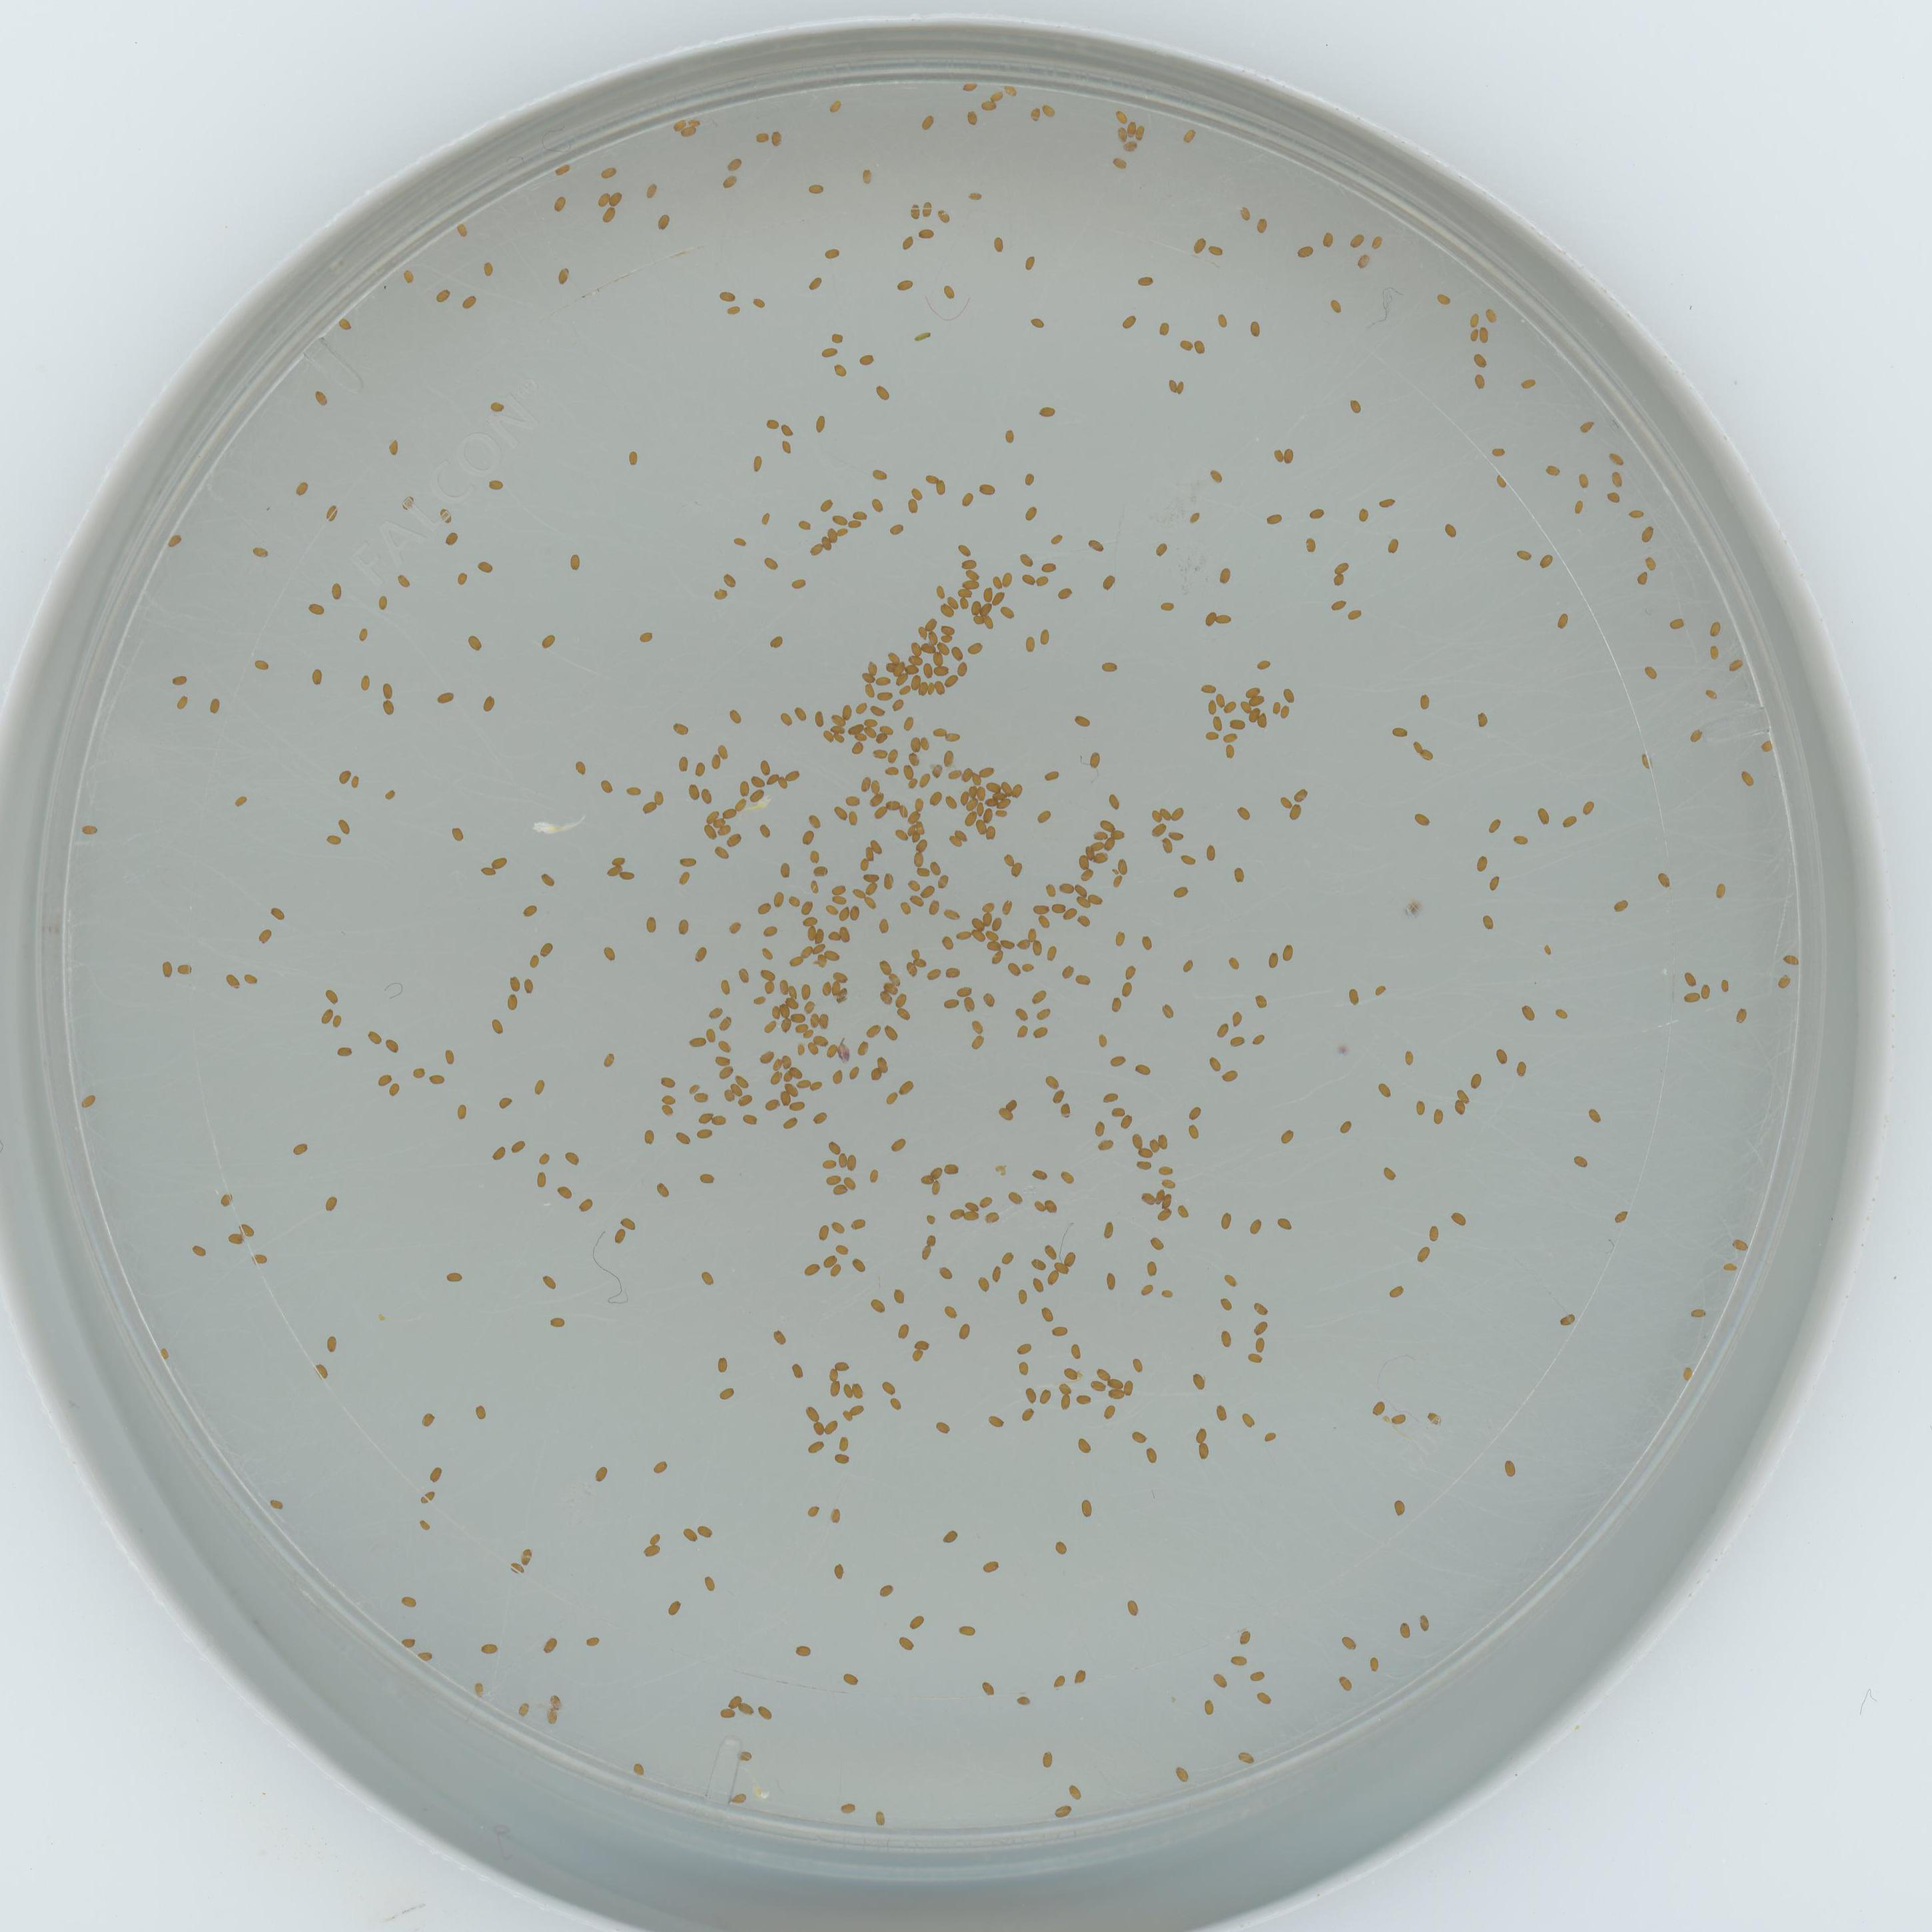seed: (952, 1624, 978, 1640), (856, 166, 876, 188), (824, 96, 844, 117), (556, 267, 573, 288), (1085, 748, 1102, 770), (899, 715, 918, 732), (874, 382, 893, 400), (642, 180, 662, 198), (541, 1637, 561, 1654), (885, 1021, 902, 1040), (755, 1702, 775, 1720), (529, 1077, 548, 1095), (1472, 855, 1490, 874), (1449, 1207, 1468, 1224), (1424, 1226, 1444, 1244), (1246, 1217, 1265, 1235), (1414, 1614, 1433, 1631), (1076, 1497, 1093, 1516), (1721, 1258, 1739, 1277), (954, 541, 975, 557), (1136, 272, 1157, 288), (1191, 235, 1207, 257), (334, 817, 352, 835), (269, 904, 287, 922), (255, 925, 272, 943), (566, 552, 584, 570), (490, 853, 508, 870), (685, 784, 702, 801), (479, 258, 497, 276), (465, 633, 483, 651), (538, 633, 556, 651), (379, 699, 396, 717), (906, 202, 924, 219), (777, 862, 794, 879), (658, 1070, 676, 1088), (713, 1355, 731, 1373), (577, 1194, 594, 1212), (384, 1037, 402, 1054), (699, 1269, 717, 1286), (771, 1327, 789, 1345), (741, 1109, 759, 1127), (541, 1272, 559, 1290), (718, 1384, 736, 1401), (805, 1403, 823, 1421), (782, 1113, 800, 1131), (809, 1437, 826, 1454), (876, 1056, 893, 1074), (1215, 566, 1233, 584), (998, 899, 1016, 916), (1279, 943, 1297, 961), (966, 639, 984, 656), (1486, 876, 1504, 893), (1246, 318, 1263, 336), (1638, 525, 1656, 543), (978, 481, 996, 499), (1035, 628, 1053, 646), (1470, 372, 1488, 389), (1198, 679, 1215, 697), (1016, 552, 1033, 570), (1737, 770, 1755, 787), (1007, 1187, 1024, 1205), (1467, 1070, 1484, 1088), (1100, 1086, 1118, 1104), (1230, 1652, 1247, 1670), (1099, 1221, 1116, 1238), (1215, 1212, 1233, 1230), (1212, 1403, 1230, 1421), (1100, 1272, 1118, 1290), (1212, 1672, 1230, 1690), (1021, 1387, 1039, 1405), (1074, 1435, 1092, 1453), (1037, 1304, 1054, 1322), (1238, 1410, 1256, 1428), (1141, 1445, 1159, 1463), (1502, 1460, 1520, 1477), (1012, 1286, 1030, 1304), (1194, 1442, 1212, 1460), (1414, 1246, 1431, 1263), (1122, 1599, 1139, 1617), (1336, 1674, 1353, 1691), (1730, 1233, 1748, 1251), (1426, 1410, 1444, 1428), (1755, 738, 1773, 755), (870, 1810, 888, 1828), (736, 1748, 754, 1766), (543, 1707, 561, 1725), (832, 361, 851, 377), (602, 207, 617, 226), (718, 287, 738, 303), (324, 504, 340, 524), (798, 899, 817, 915), (223, 971, 239, 991), (441, 1047, 456, 1067), (816, 1223, 832, 1242), (556, 1182, 575, 1198), (763, 1095, 782, 1111), (878, 957, 893, 977), (978, 586, 994, 605), (1274, 1214, 1293, 1230), (1060, 1364, 1079, 1380), (1033, 1005, 1053, 1021), (1155, 1131, 1171, 1150), (1700, 685, 1716, 704), (1681, 1366, 1697, 1385), (506, 1560, 527, 1575), (872, 467, 890, 483), (897, 276, 915, 292), (870, 702, 888, 718), (356, 674, 373, 690), (679, 853, 697, 869), (763, 416, 780, 432), (306, 600, 324, 616), (386, 439, 402, 456), (324, 832, 341, 847), (727, 154, 745, 170), (798, 517, 816, 533), (876, 918, 893, 934), (395, 573, 412, 589), (927, 791, 945, 807), (832, 805, 849, 821), (327, 582, 343, 600), (771, 892, 787, 909), (918, 223, 934, 241), (800, 830, 817, 846), (757, 823, 775, 839), (807, 274, 824, 290), (950, 646, 966, 663), (713, 586, 731, 602), (637, 628, 655, 644), (812, 416, 830, 432), (676, 755, 694, 771), (759, 757, 775, 775), (550, 195, 568, 211), (292, 479, 310, 495), (909, 851, 925, 869), (433, 287, 451, 303), (793, 706, 810, 722), (941, 906, 959, 922), (540, 939, 556, 957), (812, 863, 830, 879), (701, 789, 718, 805), (308, 669, 326, 685), (727, 709, 745, 725), (754, 129, 771, 145), (924, 901, 941, 916), (824, 242, 840, 260), (934, 207, 952, 223), (694, 943, 709, 961), (377, 683, 395, 699), (812, 711, 828, 729), (656, 212, 672, 230), (763, 924, 780, 939), (807, 849, 824, 865), (839, 927, 855, 945), (837, 906, 853, 924), (955, 660, 971, 678), (786, 954, 803, 970), (938, 602, 955, 617), (805, 1260, 823, 1276), (881, 1378, 899, 1394), (890, 1134, 908, 1150), (908, 1614, 925, 1629), (593, 1465, 609, 1483), (428, 1069, 446, 1085), (844, 1173, 862, 1189), (488, 1017, 506, 1033), (835, 1435, 853, 1451), (879, 1582, 897, 1598), (934, 1419, 952, 1435), (426, 1465, 442, 1483), (865, 1021, 883, 1037), (708, 1003, 724, 1021), (502, 993, 520, 1008), (833, 1355, 851, 1371), (495, 1093, 513, 1109), (366, 1028, 382, 1046), (828, 1069, 846, 1085), (936, 1263, 954, 1279), (794, 1642, 812, 1658), (290, 1139, 308, 1155), (895, 1322, 913, 1338), (697, 1522, 715, 1537), (640, 1127, 658, 1143), (617, 1214, 635, 1230), (870, 1295, 888, 1311), (320, 1194, 338, 1210), (892, 1286, 908, 1304), (851, 1214, 869, 1230), (446, 1267, 462, 1284), (851, 1256, 869, 1272), (886, 1394, 904, 1410), (655, 1182, 672, 1198), (548, 1313, 566, 1329), (226, 1230, 242, 1247), (812, 1108, 830, 1123), (563, 1148, 580, 1164), (849, 1401, 867, 1417), (791, 1361, 807, 1378), (899, 1635, 916, 1651), (189, 1242, 207, 1258), (913, 1334, 931, 1350), (759, 1049, 777, 1065), (239, 1219, 255, 1237), (717, 1063, 734, 1079), (713, 1051, 731, 1067), (826, 1380, 842, 1398), (955, 1323, 971, 1341), (812, 1031, 830, 1047), (1265, 510, 1283, 525), (1534, 809, 1552, 824), (1384, 538, 1401, 554), (1253, 216, 1270, 232), (1605, 488, 1622, 504), (1332, 557, 1350, 573), (1008, 863, 1026, 879), (1300, 536, 1318, 552), (1168, 805, 1185, 821), (1486, 817, 1504, 833), (1201, 844, 1217, 862), (1021, 506, 1039, 522), (1171, 885, 1189, 901), (1376, 494, 1394, 510), (1470, 350, 1488, 366), (1608, 471, 1624, 488), (1307, 504, 1325, 520), (1575, 471, 1592, 487), (1329, 596, 1346, 612), (1297, 242, 1315, 258), (1391, 724, 1408, 740), (1479, 913, 1497, 929), (1442, 522, 1460, 538), (1040, 557, 1058, 573), (1086, 536, 1104, 552), (1136, 934, 1154, 950), (998, 605, 1016, 621), (1221, 743, 1238, 759), (1580, 800, 1598, 816), (1026, 313, 1044, 329), (1553, 612, 1571, 628), (1230, 867, 1247, 883), (1633, 570, 1651, 586), (1353, 253, 1371, 269), (1118, 313, 1136, 329), (1017, 570, 1035, 586), (1640, 554, 1658, 570), (1327, 297, 1345, 313), (1348, 232, 1366, 248), (1168, 828, 1185, 844), (1028, 939, 1044, 957), (1237, 205, 1254, 221), (1656, 872, 1674, 888), (1435, 290, 1453, 306), (1093, 1366, 1111, 1382), (1028, 1166, 1046, 1182), (1134, 1058, 1150, 1076), (1251, 1320, 1269, 1336), (1493, 1047, 1511, 1063), (1070, 1668, 1088, 1684), (982, 1559, 1000, 1575), (987, 1412, 1005, 1428), (1042, 1074, 1060, 1090), (1030, 1254, 1047, 1270), (1732, 1007, 1750, 1023), (1380, 1164, 1398, 1180), (1090, 1120, 1108, 1136), (1051, 1322, 1069, 1338), (1040, 1242, 1058, 1258), (1254, 1690, 1272, 1706), (1185, 1104, 1203, 1120), (1017, 1407, 1035, 1422), (1106, 996, 1123, 1012), (1237, 1748, 1254, 1764), (1030, 987, 1047, 1003), (1129, 1428, 1146, 1444), (1387, 1283, 1405, 1299), (1396, 1622, 1414, 1638), (1116, 1113, 1134, 1129), (1345, 987, 1361, 1005), (1235, 1629, 1253, 1645), (1016, 1339, 1033, 1355), (978, 1679, 996, 1695), (1221, 1065, 1238, 1081), (1049, 1088, 1067, 1104), (1339, 1635, 1357, 1651), (1065, 1783, 1083, 1799), (1391, 1499, 1408, 1514), (1191, 1426, 1208, 1442), (1108, 1051, 1125, 1067), (984, 1208, 1001, 1224), (977, 1192, 994, 1208), (1228, 1031, 1246, 1047), (1171, 1766, 1189, 1782), (1146, 1233, 1162, 1251), (987, 1263, 1003, 1281), (1585, 1106, 1603, 1122), (1217, 1332, 1233, 1350), (1054, 1394, 1072, 1410), (1251, 1299, 1269, 1315), (1037, 1752, 1053, 1769), (1028, 1198, 1046, 1214), (1143, 1260, 1161, 1276), (1053, 1801, 1070, 1817), (1189, 1373, 1207, 1389), (1159, 1003, 1177, 1019), (1065, 1343, 1083, 1359), (1058, 1168, 1074, 1185), (1184, 1122, 1201, 1138), (1375, 1083, 1392, 1099), (1054, 1380, 1072, 1396), (1430, 1109, 1447, 1125), (1053, 1260, 1070, 1276), (1707, 621, 1723, 639), (1180, 957, 1196, 975), (1730, 656, 1746, 674), (1024, 104, 1042, 120), (1003, 83, 1021, 99), (961, 80, 978, 96), (1111, 127, 1129, 143), (1122, 140, 1139, 156), (840, 1801, 858, 1817), (729, 1790, 747, 1806), (547, 1693, 564, 1709), (313, 1364, 329, 1382), (908, 734, 922, 754), (823, 1171, 842, 1185), (175, 961, 195, 975), (1058, 1100, 1072, 1120), (522, 902, 538, 918), (609, 191, 625, 207), (724, 571, 740, 587), (819, 497, 835, 513), (770, 633, 786, 649), (939, 934, 955, 950), (881, 874, 897, 890), (600, 777, 616, 793), (893, 828, 909, 844), (945, 674, 961, 690), (375, 594, 391, 610), (778, 711, 794, 727), (764, 556, 780, 571), (170, 671, 186, 686), (748, 456, 764, 472), (823, 343, 839, 359), (715, 846, 731, 862), (901, 234, 916, 249), (481, 697, 497, 713), (672, 720, 688, 736), (890, 520, 906, 536), (757, 901, 773, 916), (708, 754, 724, 770), (207, 699, 223, 715), (869, 793, 885, 809), (809, 179, 824, 195), (354, 626, 370, 642), (727, 303, 743, 318), (807, 879, 823, 895), (253, 656, 269, 672), (437, 690, 453, 706), (334, 770, 350, 786), (731, 534, 747, 550), (251, 543, 267, 559), (892, 697, 908, 713), (832, 510, 847, 525), (934, 479, 950, 495), (870, 497, 886, 513), (945, 796, 961, 812), (644, 916, 660, 932), (653, 789, 669, 805), (676, 920, 692, 936), (770, 129, 786, 145), (717, 743, 732, 759), (909, 485, 925, 501), (488, 476, 504, 492), (807, 812, 823, 828), (830, 329, 846, 345), (904, 499, 920, 515), (602, 945, 617, 961), (780, 439, 796, 455), (786, 768, 801, 784), (761, 943, 777, 959), (807, 543, 823, 559), (173, 695, 189, 711), (856, 777, 872, 793), (832, 879, 847, 895), (939, 750, 955, 766), (870, 839, 886, 855), (694, 761, 709, 777), (736, 780, 752, 796), (847, 812, 863, 828), (338, 317, 354, 333), (847, 906, 863, 922), (939, 621, 955, 637), (869, 777, 885, 793), (920, 113, 936, 129), (856, 856, 872, 872), (908, 750, 924, 766), (81, 821, 97, 837), (554, 163, 570, 179), (899, 1079, 915, 1095), (324, 989, 340, 1005), (481, 1640, 497, 1656), (807, 1502, 823, 1518), (377, 1072, 393, 1088), (653, 1458, 669, 1474), (667, 1599, 683, 1615), (400, 1592, 416, 1608), (251, 1249, 267, 1265), (216, 1191, 232, 1207), (835, 1451, 851, 1467), (510, 1136, 525, 1152), (895, 1005, 911, 1021), (941, 1529, 957, 1545), (533, 1171, 548, 1187), (717, 1016, 732, 1031), (846, 1154, 862, 1169), (832, 1562, 847, 1578), (856, 1039, 872, 1054), (867, 1166, 883, 1182), (329, 1012, 345, 1028), (472, 1403, 488, 1419), (674, 1129, 690, 1145), (610, 1228, 626, 1244), (515, 1700, 531, 1716), (400, 1635, 416, 1651), (318, 1007, 334, 1023), (717, 978, 732, 994), (660, 1102, 676, 1118), (851, 1382, 867, 1398), (828, 1506, 844, 1522), (832, 1217, 847, 1233), (766, 1070, 782, 1086), (833, 968, 849, 984), (704, 1028, 720, 1044), (419, 1412, 435, 1428), (738, 966, 754, 982), (699, 1169, 715, 1185), (727, 1691, 743, 1707), (602, 1051, 617, 1067), (883, 1090, 899, 1106), (948, 1203, 964, 1219), (844, 1670, 860, 1686), (702, 1575, 718, 1591), (763, 1019, 778, 1035), (386, 1081, 402, 1097), (453, 1102, 469, 1118), (924, 1230, 939, 1246), (648, 1530, 663, 1546), (694, 1088, 709, 1104), (269, 1495, 285, 1511), (916, 1244, 932, 1260), (823, 1042, 839, 1058), (1044, 766, 1060, 782), (1207, 467, 1223, 483), (1346, 605, 1362, 621), (1628, 504, 1644, 520), (1035, 809, 1051, 824), (1513, 832, 1529, 847), (1281, 686, 1297, 702), (1111, 931, 1127, 947), (1537, 554, 1553, 570), (1281, 448, 1297, 464), (1115, 858, 1131, 874), (1545, 462, 1560, 478), (1100, 575, 1116, 591), (991, 235, 1007, 251), (1263, 950, 1279, 966), (1614, 897, 1629, 913), (1207, 242, 1223, 258), (1368, 234, 1384, 249), (1493, 472, 1509, 488), (1074, 711, 1090, 727), (1033, 899, 1049, 915), (1292, 787, 1307, 803), (1001, 426, 1017, 442), (1713, 883, 1729, 899), (1047, 531, 1063, 547), (1644, 663, 1660, 679), (1474, 713, 1490, 729), (1100, 658, 1116, 674), (1104, 794, 1120, 810), (1203, 729, 1219, 745), (1320, 232, 1336, 248), (1562, 812, 1578, 828), (1235, 805, 1251, 821), (1414, 812, 1430, 828), (1191, 338, 1207, 354), (1690, 727, 1706, 743), (1111, 154, 1127, 170), (1185, 510, 1201, 525), (1037, 915, 1053, 931), (1215, 610, 1231, 626), (1208, 715, 1224, 731), (1076, 913, 1092, 929), (1079, 869, 1095, 885), (1044, 945, 1060, 961), (1346, 398, 1362, 414), (1276, 794, 1292, 810), (998, 934, 1014, 950), (987, 573, 1003, 589), (1578, 418, 1594, 433), (1074, 881, 1090, 897), (1465, 311, 1481, 327), (1606, 451, 1622, 467), (1514, 1062, 1530, 1077), (1249, 1668, 1265, 1684), (1093, 1031, 1109, 1047), (1249, 1030, 1265, 1046), (1338, 1118, 1353, 1134), (970, 1033, 985, 1049), (1553, 1005, 1569, 1021), (1157, 1161, 1173, 1177), (1207, 1056, 1223, 1072), (1279, 1127, 1295, 1143), (1000, 1249, 1016, 1265), (1037, 1387, 1053, 1403), (1522, 1003, 1537, 1019), (1100, 1403, 1116, 1419), (1251, 993, 1267, 1008), (1051, 1674, 1067, 1690), (1573, 1152, 1589, 1168), (1201, 1700, 1217, 1716), (1076, 1391, 1092, 1407), (1051, 1539, 1067, 1555), (1223, 1272, 1238, 1288), (1371, 1399, 1387, 1415), (1129, 1357, 1145, 1373), (975, 1276, 991, 1292), (1074, 971, 1090, 987), (1391, 1410, 1407, 1426), (1062, 1251, 1077, 1267), (1683, 970, 1698, 985), (1217, 1295, 1233, 1311), (1031, 1021, 1047, 1037), (1028, 1276, 1044, 1292), (1246, 1350, 1261, 1366), (1014, 1691, 1030, 1707), (1044, 1198, 1060, 1214), (1118, 980, 1134, 996), (1139, 1189, 1155, 1205), (1614, 1207, 1629, 1223), (1638, 754, 1654, 770), (987, 87, 1003, 103), (812, 941, 828, 957), (472, 1681, 488, 1697), (156, 1346, 172, 1362), (922, 469, 939, 483), (932, 582, 947, 600), (442, 531, 460, 545), (540, 874, 557, 888), (791, 575, 809, 589), (780, 423, 798, 437), (479, 865, 497, 879), (460, 294, 478, 308), (844, 793, 862, 807), (725, 833, 743, 847), (748, 789, 766, 803), (527, 954, 541, 971), (851, 506, 869, 520), (863, 899, 881, 913), (911, 796, 929, 810), (879, 722, 897, 736), (945, 768, 962, 782), (717, 823, 734, 837), (863, 715, 881, 729), (334, 1042, 352, 1056), (688, 1033, 706, 1047), (943, 1161, 961, 1175), (750, 993, 768, 1007), (717, 1039, 734, 1053), (324, 1334, 338, 1352), (867, 1065, 885, 1079), (159, 959, 173, 977), (738, 1093, 755, 1108), (681, 1529, 699, 1543), (778, 1088, 793, 1106), (1054, 586, 1072, 600), (1242, 681, 1260, 695), (989, 952, 1007, 966), (1060, 908, 1077, 922), (1178, 853, 1196, 867), (1782, 950, 1799, 964), (1023, 253, 1037, 271), (1145, 809, 1162, 823), (1178, 129, 1196, 143), (985, 939, 1003, 954), (1012, 1007, 1030, 1021), (980, 993, 998, 1007), (1120, 966, 1138, 980), (1014, 1361, 1031, 1375), (1215, 1021, 1230, 1039), (1095, 1136, 1113, 1150), (1138, 1281, 1155, 1295), (1108, 1102, 1125, 1116), (996, 1106, 1014, 1120), (962, 996, 977, 1014), (950, 828, 968, 842), (632, 1760, 646, 1778), (798, 945, 816, 959), (957, 787, 970, 807), (520, 1546, 533, 1566), (1106, 1376, 1125, 1389), (876, 674, 892, 688), (931, 724, 947, 738), (860, 352, 876, 366), (851, 741, 867, 755), (678, 872, 694, 886), (702, 826, 718, 840), (941, 285, 957, 299), (382, 787, 398, 801), (727, 920, 743, 934), (849, 886, 865, 901), (885, 766, 901, 780), (922, 885, 938, 899), (626, 784, 642, 798), (750, 295, 766, 310), (724, 173, 740, 188), (602, 165, 617, 179), (449, 828, 465, 842), (945, 731, 961, 745), (453, 571, 469, 586), (787, 893, 803, 908), (610, 853, 626, 867), (759, 511, 775, 525), (626, 449, 640, 465), (476, 559, 492, 573), (704, 809, 720, 823), (801, 915, 817, 929), (621, 869, 637, 883), (913, 839, 929, 853), (920, 734, 934, 750), (863, 660, 879, 674), (878, 688, 893, 702), (313, 389, 329, 403), (899, 902, 915, 916), (400, 269, 416, 283), (596, 191, 610, 207), (573, 761, 589, 775), (902, 764, 916, 780), (863, 683, 878, 699), (874, 747, 888, 763), (888, 747, 902, 763), (734, 798, 750, 812), (909, 893, 925, 908), (750, 775, 766, 789), (906, 878, 922, 892), (909, 640, 924, 656), (863, 869, 879, 883), (232, 794, 248, 809), (826, 948, 842, 962), (931, 764, 945, 780), (858, 671, 874, 685), (832, 732, 847, 747), (803, 925, 817, 941), (681, 124, 697, 138), (947, 835, 962, 849), (826, 1138, 842, 1152), (410, 1065, 426, 1079), (662, 1092, 678, 1106), (644, 1543, 660, 1557), (786, 994, 801, 1008), (945, 966, 961, 980), (941, 1302, 957, 1316), (697, 1109, 713, 1123), (586, 1635, 602, 1649), (522, 977, 536, 993), (791, 1097, 807, 1111), (830, 1261, 844, 1277), (925, 966, 941, 980), (821, 1155, 837, 1169), (490, 1145, 506, 1159), (893, 993, 909, 1007), (847, 1065, 863, 1079), (713, 1111, 727, 1127), (418, 1649, 433, 1663), (685, 1079, 701, 1093), (506, 975, 520, 991), (697, 1125, 713, 1139), (536, 1150, 552, 1164), (720, 1707, 736, 1721), (740, 1702, 755, 1716), (931, 1162, 945, 1178), (805, 1042, 821, 1056), (766, 1005, 782, 1019), (800, 985, 816, 1000), (763, 978, 778, 993), (787, 1065, 803, 1079), (918, 1169, 934, 1184), (83, 1090, 97, 1106), (418, 1518, 433, 1532), (840, 1382, 855, 1398), (782, 1054, 798, 1069), (989, 916, 1003, 932), (1516, 547, 1532, 561), (1150, 823, 1166, 837), (1214, 313, 1230, 327), (1267, 448, 1283, 462), (1154, 541, 1168, 557), (1221, 731, 1237, 745), (1058, 879, 1072, 895), (1000, 853, 1016, 867), (1021, 471, 1037, 485), (1254, 658, 1270, 672), (1037, 403, 1053, 418), (1415, 695, 1431, 709), (1155, 320, 1171, 334), (978, 763, 994, 777), (1355, 508, 1371, 522), (1201, 701, 1217, 715), (1157, 840, 1173, 855), (1330, 573, 1346, 587), (1490, 444, 1506, 458), (1288, 807, 1304, 821), (966, 108, 980, 124), (1571, 499, 1587, 513), (1102, 837, 1116, 853), (1099, 817, 1115, 832), (1092, 853, 1108, 867), (984, 826, 998, 842), (1157, 598, 1173, 612), (1074, 855, 1090, 869), (1177, 336, 1192, 350), (966, 189, 982, 203), (1024, 927, 1039, 943), (1417, 748, 1433, 763), (1010, 782, 1024, 798), (1108, 874, 1122, 890), (970, 915, 984, 931), (1668, 616, 1684, 630), (980, 99, 996, 113), (1228, 717, 1244, 731), (1040, 103, 1056, 117), (1249, 694, 1265, 708), (970, 614, 985, 628), (993, 807, 1008, 821), (1159, 805, 1173, 821), (1465, 327, 1479, 343), (961, 580, 982, 591), (1706, 646, 1721, 660), (1520, 375, 1536, 389), (1228, 1012, 1244, 1026), (1559, 1311, 1575, 1325), (1122, 1378, 1136, 1394), (1401, 1051, 1417, 1065), (1373, 982, 1387, 998), (1155, 1208, 1171, 1223), (1366, 1656, 1382, 1670), (1716, 978, 1732, 993), (1044, 1270, 1060, 1284), (1261, 1430, 1277, 1444), (1253, 1338, 1269, 1352), (970, 1017, 985, 1031), (1088, 1378, 1104, 1392), (1684, 989, 1700, 1003), (1058, 966, 1074, 980), (1159, 1173, 1175, 1187), (1014, 1026, 1030, 1040), (1173, 1203, 1189, 1217), (1159, 1284, 1173, 1300), (1136, 1157, 1152, 1171), (1412, 1100, 1428, 1115), (1129, 1132, 1143, 1148), (1700, 982, 1714, 998), (1005, 1095, 1021, 1109), (1451, 1100, 1467, 1115), (1453, 1088, 1468, 1102), (1690, 1304, 1706, 1318), (1776, 973, 1790, 989), (962, 1198, 978, 1212), (1021, 961, 1037, 975), (729, 1083, 743, 1099), (1238, 699, 1253, 715), (1484, 308, 1500, 322), (936, 642, 952, 656), (970, 602, 984, 617), (814, 954, 828, 970), (862, 847, 878, 862), (671, 117, 686, 131), (688, 115, 704, 129), (437, 510, 453, 524), (398, 497, 414, 511), (847, 518, 865, 531), (821, 534, 833, 552), (954, 929, 971, 941), (833, 1242, 851, 1254), (782, 1016, 794, 1033), (1023, 637, 1035, 655), (1203, 610, 1215, 628), (978, 899, 996, 911), (970, 929, 987, 941), (964, 810, 977, 828), (1106, 1389, 1123, 1401), (984, 929, 1001, 941), (1215, 692, 1228, 709), (908, 655, 925, 667), (784, 1085, 801, 1097), (780, 1003, 793, 1021), (853, 731, 870, 743), (1127, 120, 1138, 140), (918, 773, 932, 787), (490, 398, 504, 412), (929, 862, 943, 876), (642, 801, 656, 816), (855, 701, 869, 715), (920, 200, 934, 214), (874, 809, 888, 823), (722, 807, 736, 821), (349, 777, 363, 791), (886, 798, 901, 812), (768, 771, 782, 786), (934, 663, 948, 678), (168, 534, 182, 548), (895, 672, 909, 686), (777, 777, 791, 791), (908, 947, 922, 961), (824, 1419, 839, 1433), (242, 971, 257, 985), (911, 1348, 925, 1362), (924, 1212, 938, 1226), (810, 1421, 824, 1435), (761, 966, 775, 980), (823, 1251, 837, 1265), (840, 1408, 855, 1422), (998, 780, 1012, 794), (1051, 901, 1065, 915), (1042, 885, 1056, 899), (993, 591, 1007, 605), (1477, 327, 1491, 341), (1016, 938, 1030, 952), (1000, 571, 1014, 586), (982, 617, 996, 632), (1076, 895, 1090, 909), (1109, 828, 1123, 842), (1090, 828, 1104, 842), (1224, 701, 1238, 715), (915, 821, 929, 835), (713, 816, 727, 830), (823, 904, 839, 916), (842, 704, 855, 720), (936, 876, 952, 888), (888, 648, 901, 663), (605, 867, 621, 879), (865, 883, 881, 895), (908, 812, 924, 824), (922, 663, 934, 679), (826, 929, 842, 941), (821, 980, 833, 996), (777, 978, 789, 994), (906, 961, 918, 977), (736, 1074, 752, 1086), (810, 1077, 826, 1090), (819, 1012, 832, 1028), (1035, 575, 1051, 587), (1164, 377, 1177, 393), (1088, 893, 1104, 906), (1173, 379, 1185, 395), (985, 780, 1001, 793), (961, 492, 973, 508), (1138, 1145, 1154, 1157), (1154, 1189, 1166, 1205), (913, 957, 929, 970), (1088, 839, 1104, 851), (962, 766, 975, 782), (911, 674, 924, 690), (916, 681, 929, 697), (771, 1056, 784, 1072), (816, 929, 828, 945), (1223, 955, 1240, 966), (961, 559, 978, 570), (982, 911, 993, 929), (826, 527, 837, 545), (957, 587, 975, 598), (936, 679, 947, 697), (1136, 126, 1146, 143), (915, 867, 929, 879), (899, 685, 913, 697), (915, 625, 927, 639), (835, 895, 849, 908), (899, 805, 911, 819), (932, 651, 945, 665), (455, 225, 469, 237), (828, 711, 842, 724), (922, 642, 936, 655), (833, 1185, 847, 1198), (879, 991, 893, 1003), (929, 1182, 943, 1194), (945, 996, 959, 1008), (803, 998, 816, 1012), (826, 1366, 839, 1380), (421, 1491, 435, 1504), (796, 1077, 810, 1090), (786, 985, 800, 998), (883, 982, 897, 994), (782, 1070, 794, 1085), (975, 819, 987, 833), (1267, 702, 1281, 715), (1410, 740, 1422, 754), (1258, 715, 1270, 729), (1111, 111, 1125, 124), (980, 602, 993, 616), (1161, 1194, 1173, 1208), (947, 596, 959, 610), (925, 619, 939, 632), (890, 971, 902, 985), (927, 630, 939, 644), (893, 662, 906, 676), (865, 727, 879, 740), (955, 987, 975, 996), (874, 734, 890, 745), (794, 1023, 810, 1033), (1279, 704, 1290, 720), (964, 1212, 980, 1223), (832, 982, 842, 998), (1543, 941, 1553, 957), (1083, 844, 1093, 860), (977, 801, 987, 817), (971, 770, 982, 786), (939, 633, 955, 644), (863, 717, 879, 727), (830, 725, 847, 734), (927, 681, 936, 699), (821, 731, 833, 743), (791, 1010, 803, 1023), (793, 1042, 805, 1054), (1247, 709, 1260, 722), (982, 810, 994, 823), (906, 824, 918, 837), (906, 780, 920, 791), (839, 527, 853, 538), (849, 724, 863, 734), (885, 663, 899, 674), (840, 987, 851, 1001), (996, 800, 1010, 810), (993, 791, 1007, 801), (985, 796, 1000, 807), (966, 570, 982, 579), (837, 1154, 846, 1169), (810, 1012, 819, 1028), (906, 663, 918, 674), (959, 600, 971, 610), (1148, 1139, 1159, 1152), (911, 832, 924, 842), (977, 786, 985, 800), (970, 786, 978, 800), (801, 1030, 816, 1039), (968, 798, 977, 810), (724, 1088, 731, 1100)
